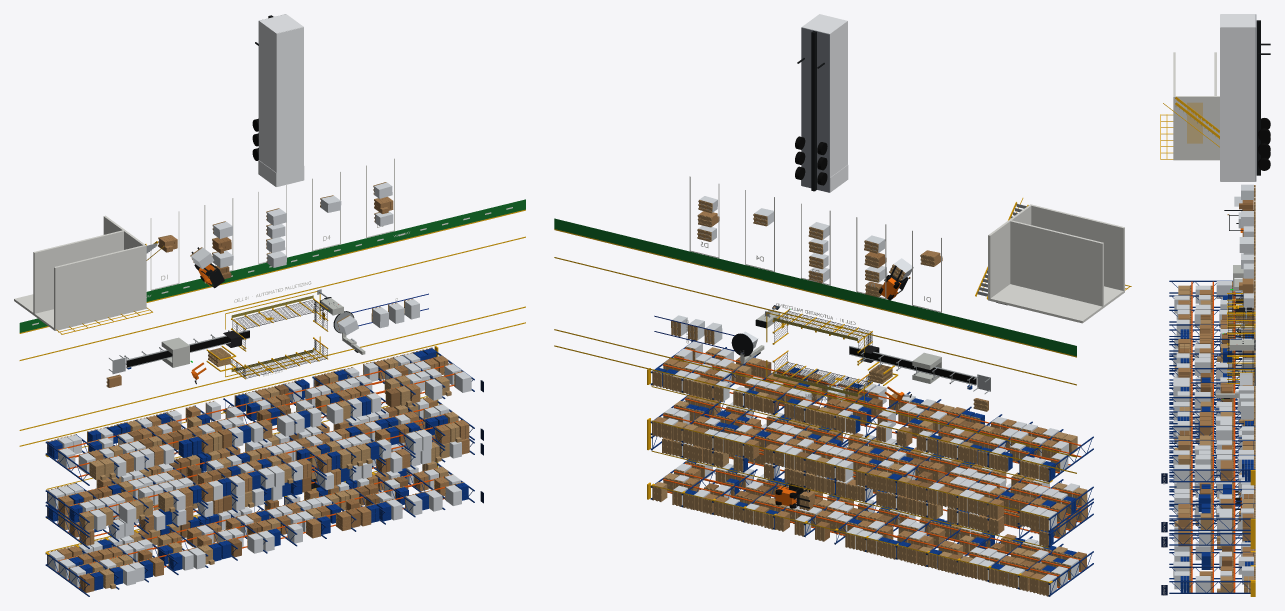
Rendered from warehouse_interior.obj.
The picture shows the model from 3 angles, left to right: view 1: azimuth 30°, elevation 25°; view 2: azimuth 150°, elevation 25°; view 3: azimuth 270°, elevation 25°; orthographic projection. The views are drawn at different scales.
Parts seen in each view (by area): view 1: EXPORT_interior; view 2: EXPORT_interior; view 3: EXPORT_interior.
Boxes of the visible parts, <box> form: EXPORT_interior: <box>14,14,525,596</box>; EXPORT_interior: <box>554,14,1131,596</box>; EXPORT_interior: <box>1160,14,1270,596</box>.
Size of the model in its own units: 47.5 by 43.82 by 8.83.
36 materials, 2 textured.
